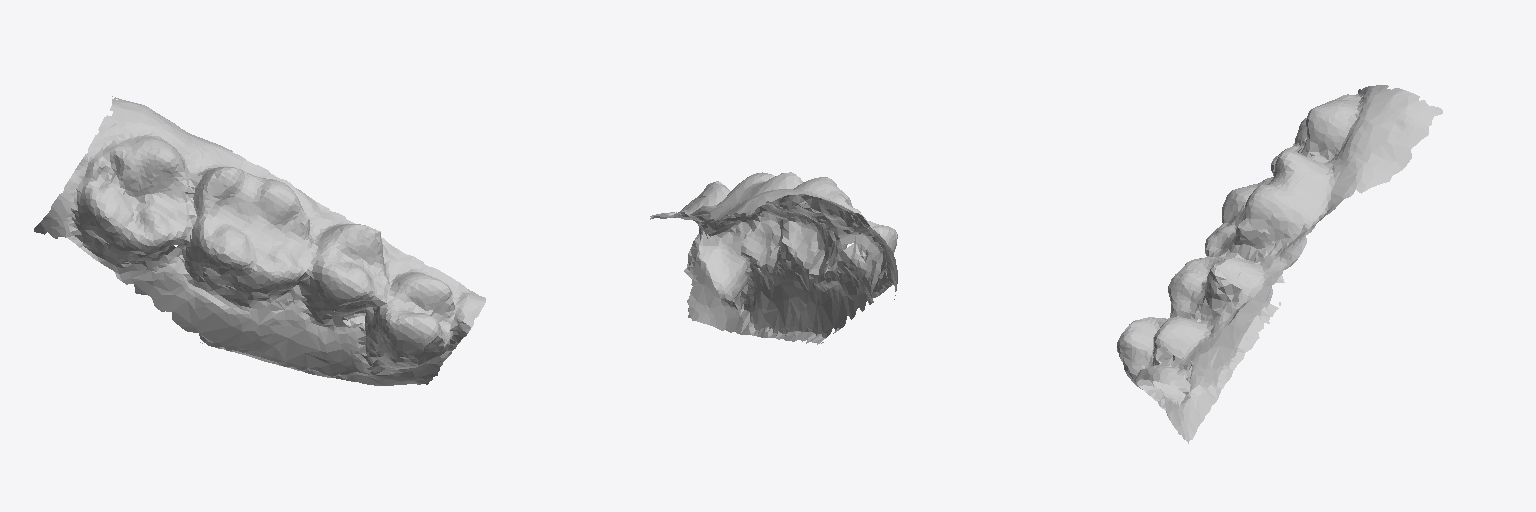
File: zahn.obj
The picture shows the model from 3 angles: view 1: azimuth 30°, elevation 25°; view 2: azimuth 150°, elevation 25°; view 3: azimuth 270°, elevation 25°; orthographic projection.
Bounding box in the file's own units: 34.76 × 24.04 × 28.2.